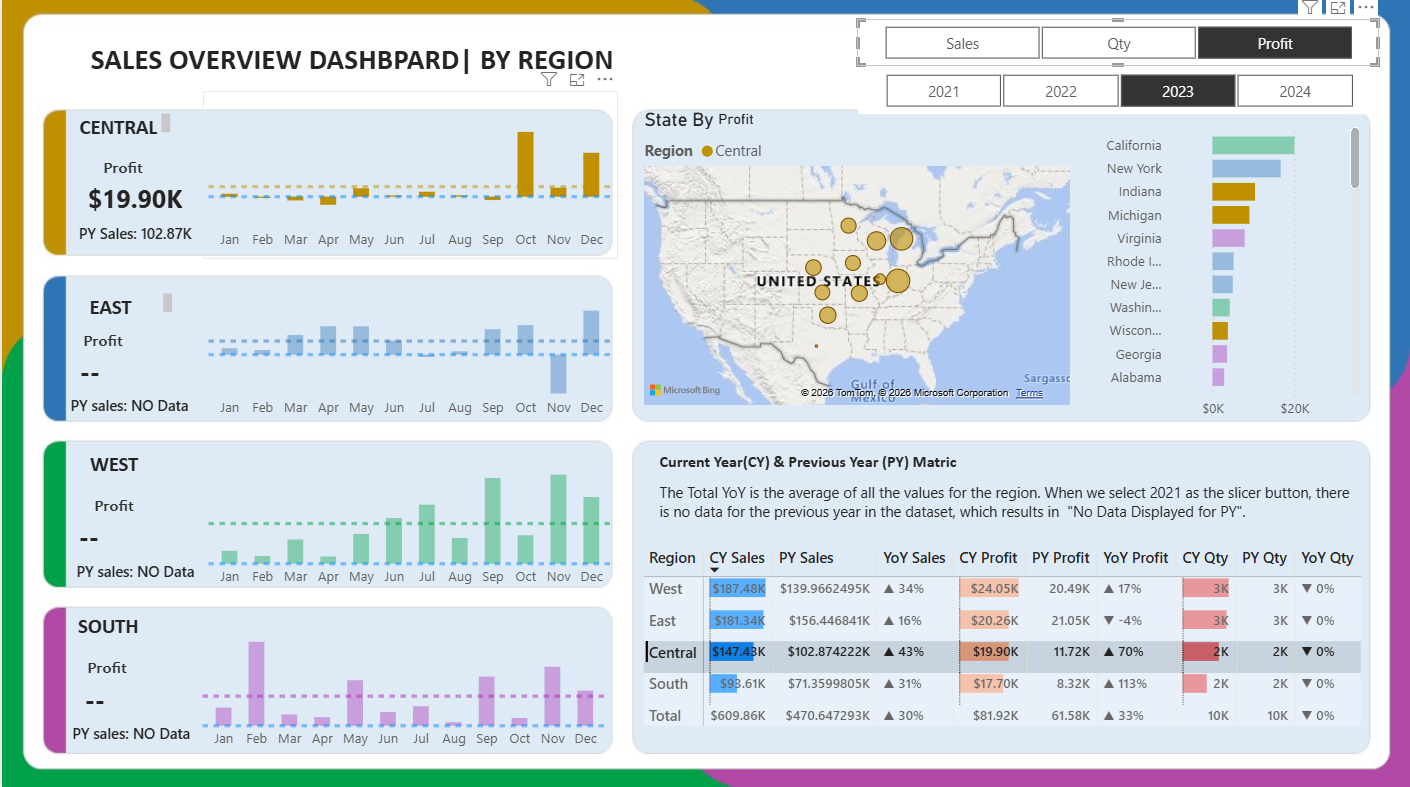

What the dashboard file says about the page in this screenshot:
{"tool":"powerbi","page":{"name":"Sales ODBR","canvas":[1280,720],"ordinal":0},"visuals":[{"type":"textbox","box":[61.2,101.1,96.7,29.3],"z":0},{"type":"slicer","fields":{"Values":["Calendar Table.Year"]},"box":[778.1,63.2,473.7,42.8],"z":1000},{"type":"slicer","fields":{"Values":["Select Matric.Select Matric"]},"box":[777.6,20.4,474.4,42.6],"z":2000},{"type":"cardVisual","fields":{"Data":["Sales Data.Total Sales"]},"box":[61.2,142.8,134.8,67.4],"z":3000},{"type":"card","fields":{"Values":["Sales Data.Dynamic Title"]},"box":[61.2,142.8,98.4,25.7],"z":4000},{"type":"card","fields":{"Values":["Sales Data.PY KPI Sales"]},"box":[54.1,203.9,134.8,26.6],"z":5000},{"type":"clusteredColumnChart","fields":{"Y":["Sales Data.Total Sales"],"Category":["Calendar Table.Month"]},"box":[182.7,85.1,377.7,153.4],"z":6000},{"type":"textbox","box":[54.1,35.5,529.4,65.6],"z":7000},{"type":"textbox","box":[44.3,264.2,115.3,29.3],"z":8000},{"type":"cardVisual","fields":{"Data":["Sales Data.Total Sales"]},"box":[54.1,299.7,134.8,67.4],"z":9000},{"type":"card","fields":{"Values":["Sales Data.Dynamic Title"]},"box":[42.6,299.7,98.4,25.7],"z":10000},{"type":"card","fields":{"Values":["Sales Data.PY KPI Sales"]},"box":[42.6,360,146.3,26.6],"z":11000},{"type":"clusteredColumnChart","fields":{"Y":["Sales Data.Total Sales"],"Category":["Calendar Table.Month"]},"box":[182.7,238.5,377.7,153.4],"z":12000},{"type":"textbox","box":[48.1,421.3,115.3,29.3],"z":13000},{"type":"cardVisual","fields":{"Data":["Sales Data.Total Sales"]},"box":[52.3,450.4,134.8,67.4],"z":14000},{"type":"card","fields":{"Values":["Sales Data.Dynamic Title"]},"box":[52.3,450.4,98.4,25.7],"z":15000},{"type":"card","fields":{"Values":["Sales Data.PY KPI Sales"]},"box":[47.9,510.7,146.3,26.6],"z":16000},{"type":"clusteredColumnChart","fields":{"Y":["Sales Data.Total Sales"],"Category":["Calendar Table.Month"]},"box":[182.7,391.9,377.7,153.4],"z":17000},{"type":"textbox","box":[54.1,407.9,96.7,42.6],"z":18000},{"type":"cardVisual","fields":{"Data":["Sales Data.Total Sales"]},"box":[58.4,598.2,135.2,67.1],"z":19000},{"type":"card","fields":{"Values":["Sales Data.Dynamic Title"]},"box":[46.8,597.6,98.4,25.7],"z":20000},{"type":"card","fields":{"Values":["Sales Data.PY KPI Sales"]},"box":[44.7,658.5,145.9,27.2],"z":21000},{"type":"clusteredColumnChart","fields":{"Y":["Sales Data.Total Sales"],"Category":["Calendar Table.Month"]},"box":[177.1,539.1,377.7,153.4],"z":22000},{"type":"textbox","box":[48.5,555,96.7,42.6],"z":23000},{"type":"map","title":"State By","fields":{"Size":["Sales Data.Total Sales"],"Category":["Sales Data.State/Province"],"Series":["Sales Data.Region"]},"box":[579,101.1,397.2,275.8],"z":24000},{"type":"card","fields":{"Values":["Sales Data.DY_map"]},"box":[583.4,69.2,167.6,86.9],"z":25000},{"type":"barChart","fields":{"Y":["Sales Data.Total Sales"],"Category":["Sales Data.State/Province"],"Series":["Sales Data.Region"]},"box":[986.9,105.5,251.8,286.4],"z":26000},{"type":"pivotTable","fields":{"Rows":["Sales Data.Region"],"Values":["Sales Data.CY Sales","Sales Data.PY Sales","Sales Data.YoY Sales","Sales Data.CY Profit","Sales Data.PY Profit","Sales Data.YoY Profit","Sales Data.CY Qty","Sales Data.PY Qty","Sales Data.YoY Qty"]},"box":[578.1,494.8,673.9,191.5],"z":27000},{"type":"textbox","box":[592.7,408.2,434.5,28.2],"z":30000},{"type":"textbox","box":[592.7,436.4,646.4,48.2],"z":30001}]}

Visuals, with their boxes in screenshot pixels (x1, y1, x2, y2), scaled from the page's 1280x720 canvas onto the 1410x787 screenshot:
textbox: l=67, t=111, r=174, b=143
slicer - Calendar Table.Year: l=857, t=69, r=1379, b=116
slicer - Select Matric.Select Matric: l=857, t=22, r=1379, b=69
cardVisual - Sales Data.Total Sales: l=67, t=156, r=216, b=230
card - Sales Data.Dynamic Title: l=67, t=156, r=176, b=184
card - Sales Data.PY KPI Sales: l=60, t=223, r=208, b=252
clusteredColumnChart - Sales Data.Total Sales x Calendar Table.Month: l=201, t=93, r=617, b=261
textbox: l=60, t=39, r=643, b=111
textbox: l=49, t=289, r=176, b=321
cardVisual - Sales Data.Total Sales: l=60, t=328, r=208, b=401
card - Sales Data.Dynamic Title: l=47, t=328, r=155, b=356
card - Sales Data.PY KPI Sales: l=47, t=393, r=208, b=423
clusteredColumnChart - Sales Data.Total Sales x Calendar Table.Month: l=201, t=261, r=617, b=428
textbox: l=53, t=461, r=180, b=493
cardVisual - Sales Data.Total Sales: l=58, t=492, r=206, b=566
card - Sales Data.Dynamic Title: l=58, t=492, r=166, b=520
card - Sales Data.PY KPI Sales: l=53, t=558, r=214, b=587
clusteredColumnChart - Sales Data.Total Sales x Calendar Table.Month: l=201, t=428, r=617, b=596
textbox: l=60, t=446, r=166, b=492
cardVisual - Sales Data.Total Sales: l=64, t=654, r=213, b=727
card - Sales Data.Dynamic Title: l=52, t=653, r=160, b=681
card - Sales Data.PY KPI Sales: l=49, t=720, r=210, b=750
clusteredColumnChart - Sales Data.Total Sales x Calendar Table.Month: l=195, t=589, r=611, b=757
textbox: l=53, t=607, r=160, b=653
"State By" map: l=638, t=111, r=1075, b=412
card - Sales Data.DY_map: l=643, t=76, r=827, b=171
barChart - Sales Data.Total Sales x Sales Data.State/Province: l=1087, t=115, r=1365, b=428
pivotTable - Sales Data.Region x Sales Data.CY Sales: l=637, t=541, r=1379, b=750
textbox: l=653, t=446, r=1132, b=477
textbox: l=653, t=477, r=1365, b=530
